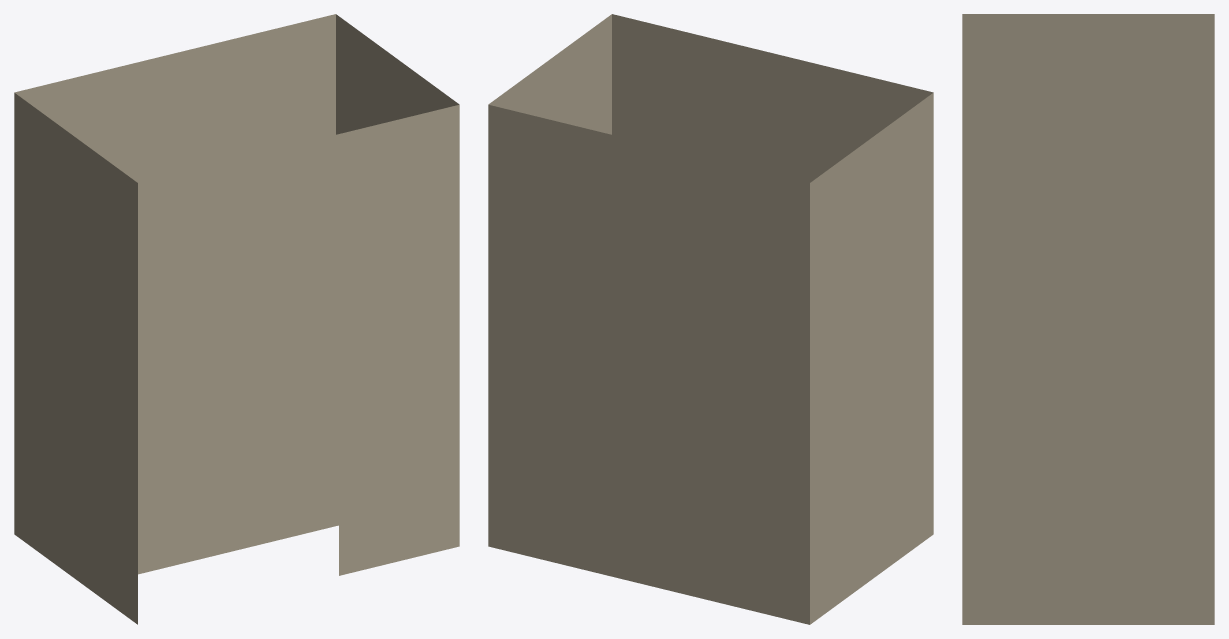
The model's file is 0981-Buildings-shell-pieces-facade-bay-wall-round-an-opening-reveals-sill-head-emitBa.glb.
3 views of the same model, side by side, from view 1: azimuth 30°, elevation 25°; view 2: azimuth 150°, elevation 25°; view 3: azimuth 270°, elevation 25° (orthographic). The views are drawn at different scales.
Parts seen in each view (by area): view 1: emitBay; view 2: emitBay; view 3: emitBay.
Part boxes in pixels (x1,y1,x2,y2): emitBay: [14, 14, 459, 624]; emitBay: [488, 14, 933, 624]; emitBay: [962, 14, 1214, 624].
Bounding box in the file's own units: 24 × 31.5 × 16.
